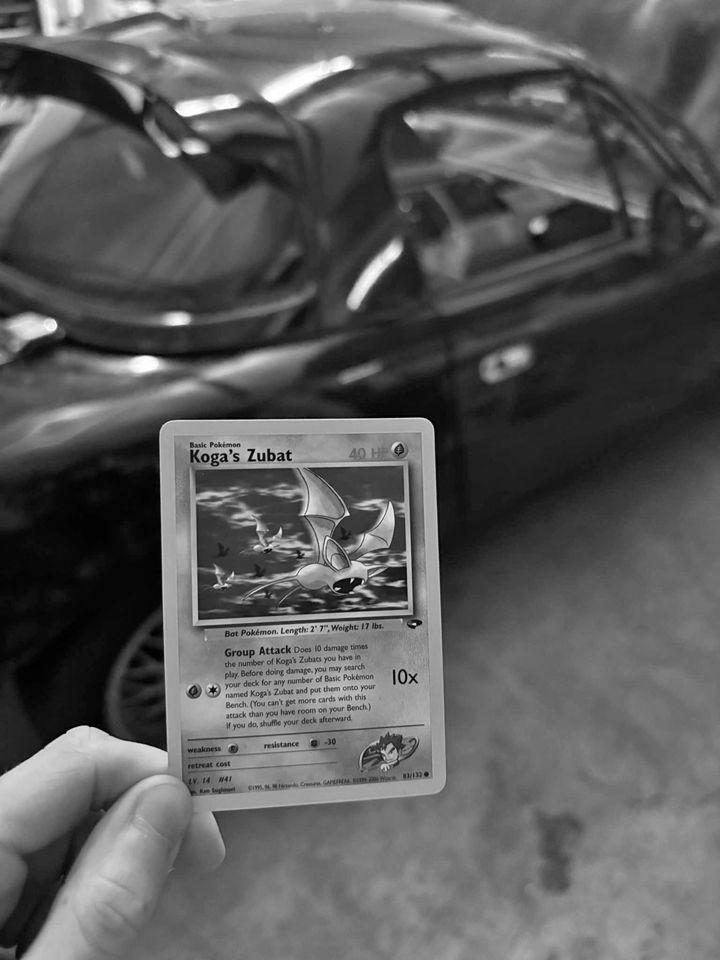card: (159, 415, 449, 815)
